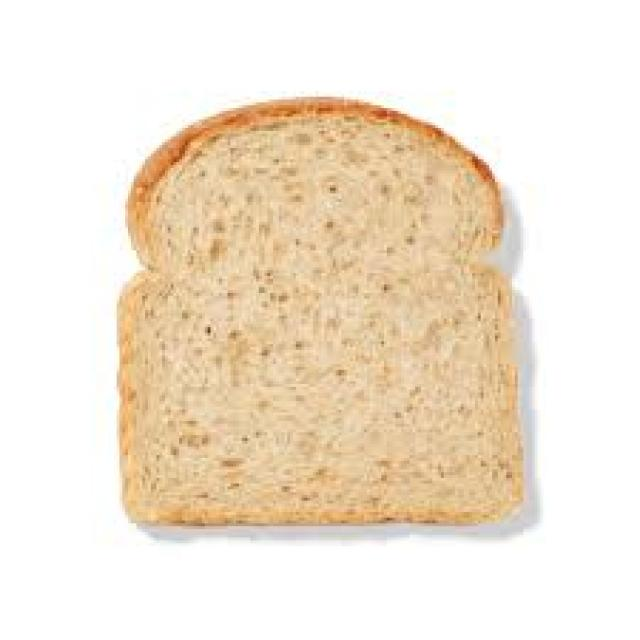Bread: (119, 100, 521, 526)
